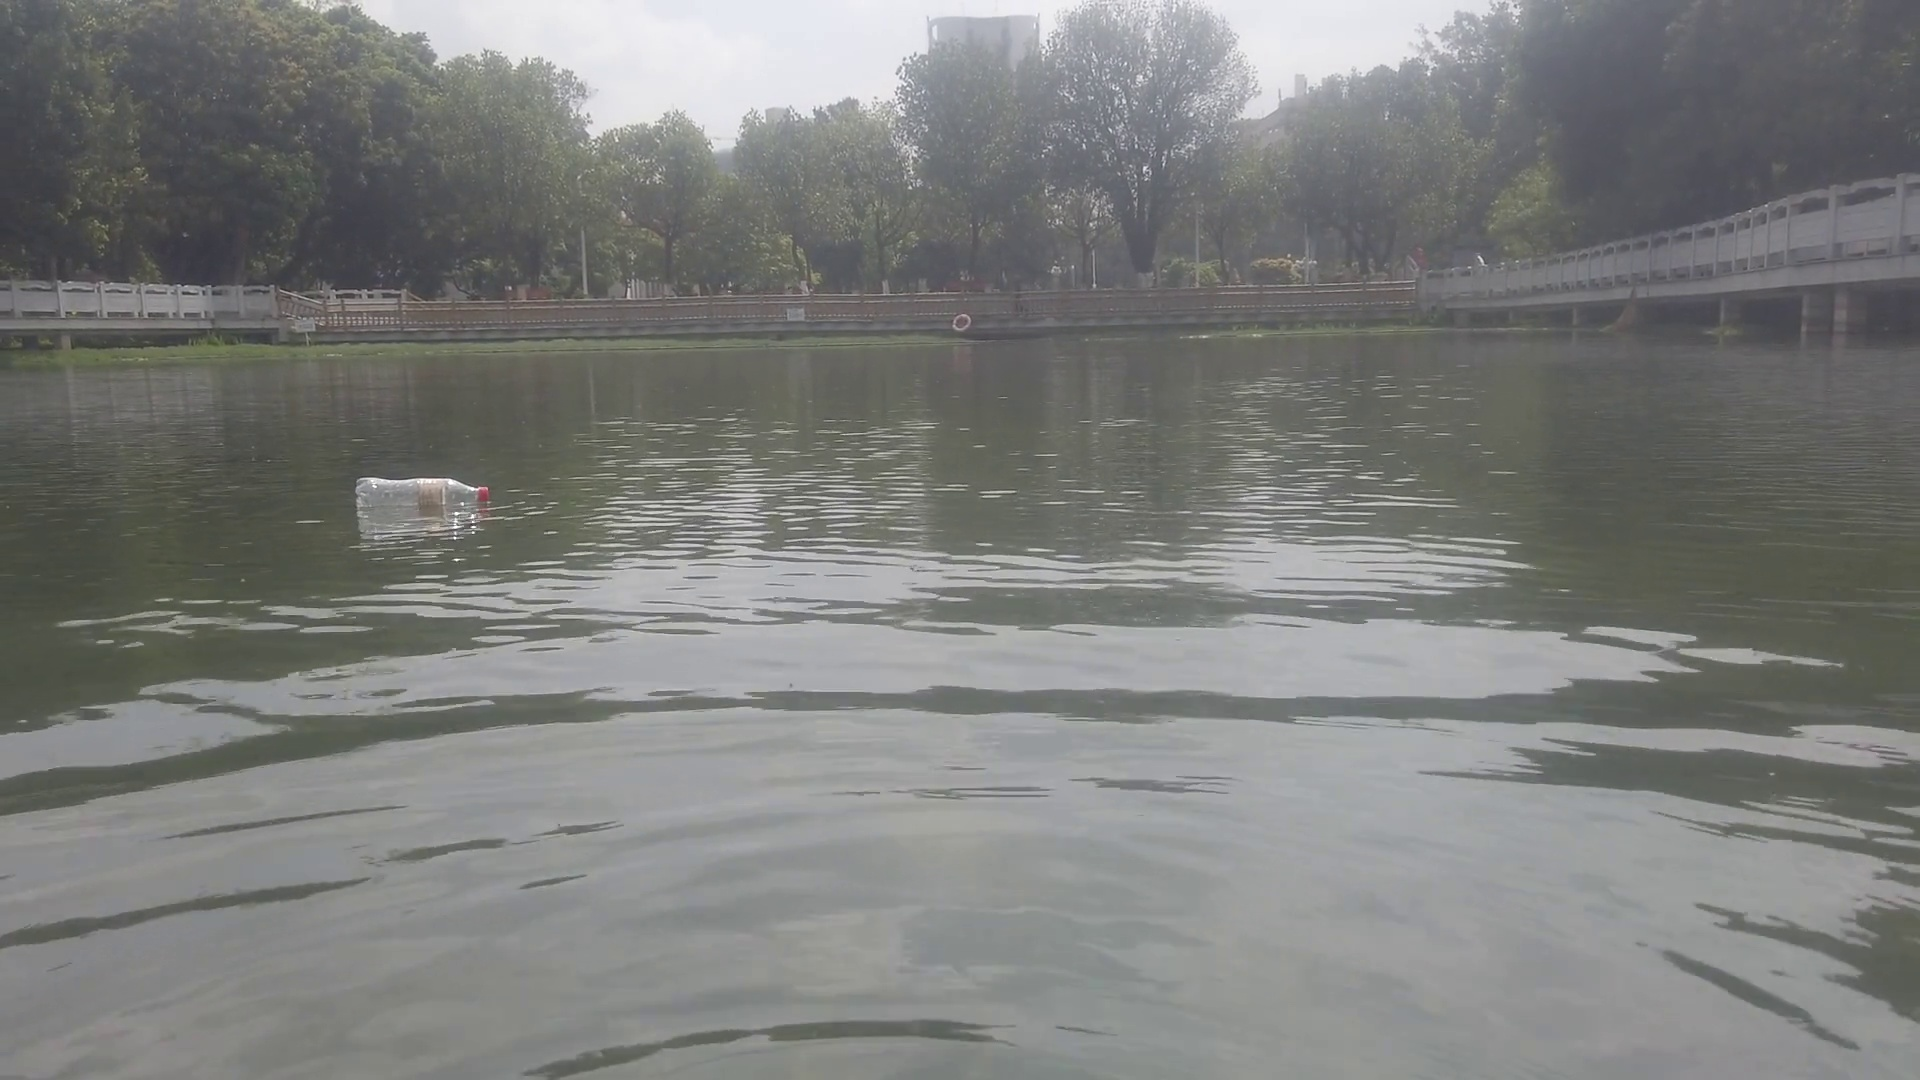bottle: (351, 469, 495, 516)
